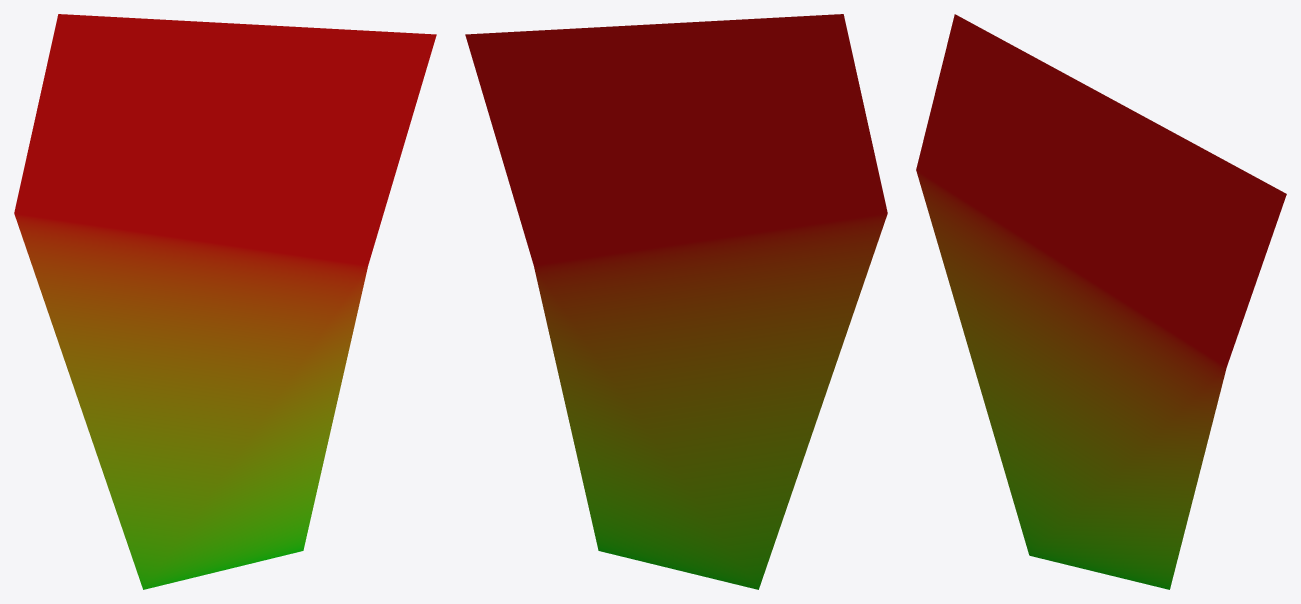
The model's file is Cane Palm_LOD3_Var3_siBmK.fbx.
3 views of the same model, side by side, from view 1: azimuth 30°, elevation 25°; view 2: azimuth 150°, elevation 25°; view 3: azimuth 330°, elevation 25° (orthographic). The views are drawn at different scales.
Visible parts, largest first — view 1: _3a21_Var3_LOD3; view 2: _3a21_Var3_LOD3; view 3: _3a21_Var3_LOD3.
Part boxes in pixels (bbox=[...]): _3a21_Var3_LOD3: bbox=[14, 14, 436, 589]; _3a21_Var3_LOD3: bbox=[465, 14, 887, 589]; _3a21_Var3_LOD3: bbox=[916, 14, 1286, 589].
Bounding box in the file's own units: 19.08 × 25.75 × 3.99e-06.
